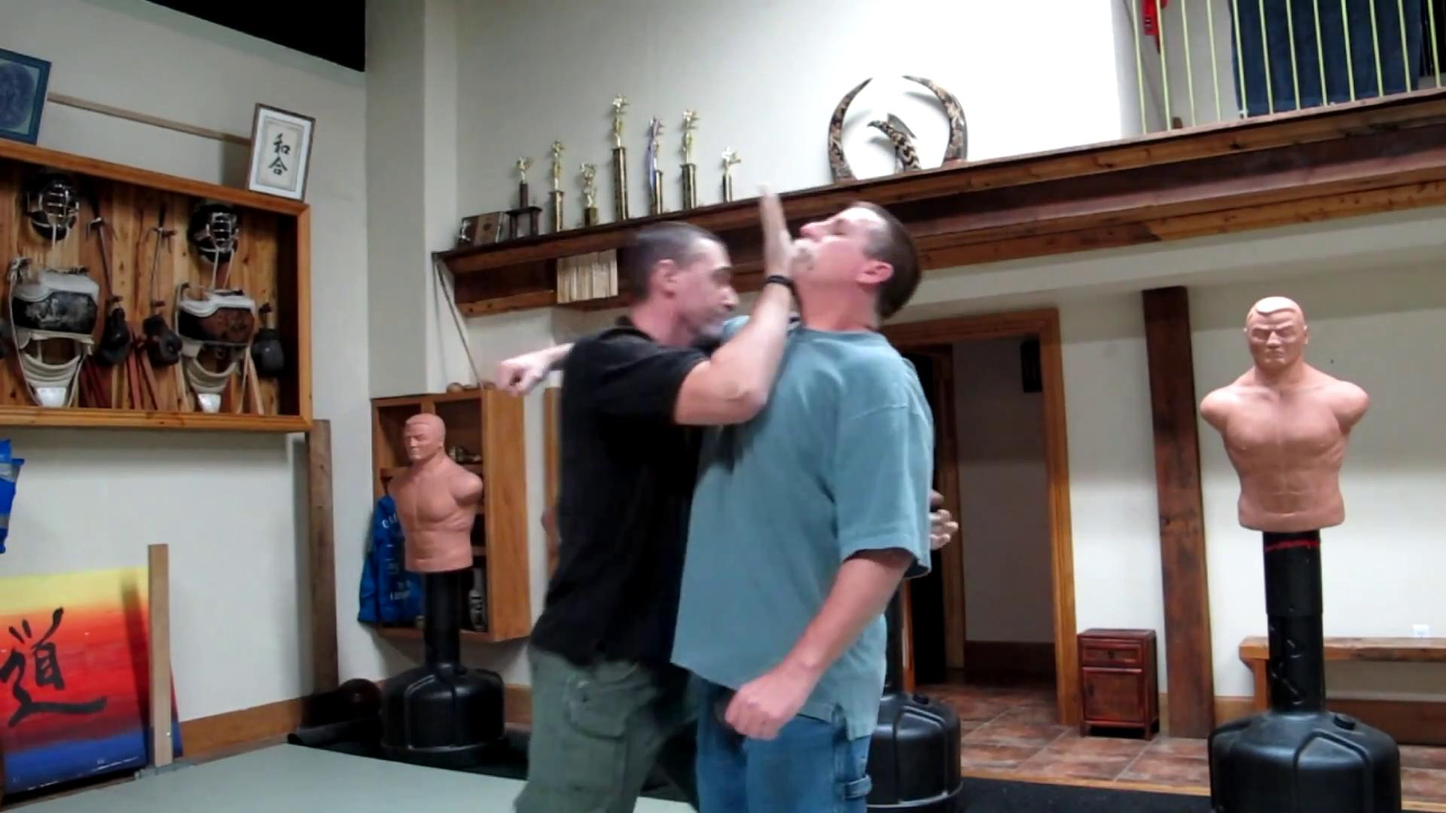victim: (514, 185, 799, 810), (670, 195, 935, 813)
